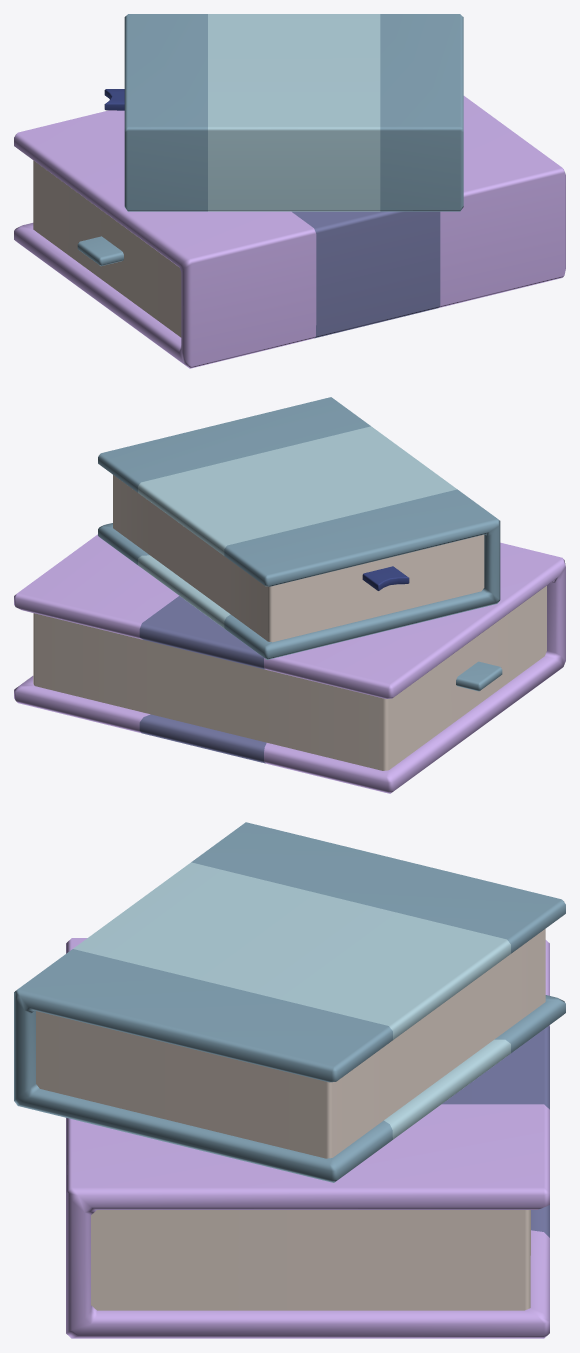
Rendered from Books_10.glb.
The picture shows the model from 3 angles, top to bottom: view 1: azimuth 30°, elevation 25°; view 2: azimuth 150°, elevation 25°; view 3: azimuth 270°, elevation 25°; orthographic projection. The views are drawn at different scales.
Visible parts, largest first — view 1: Books_10; view 2: Books_10; view 3: Books_10.
Part boxes in pixels (left/top/right/bottom): Books_10: left=14, top=14, right=565, bottom=368; Books_10: left=14, top=397, right=565, bottom=793; Books_10: left=14, top=822, right=565, bottom=1338.
Bounding box in the file's own units: 0.3231 × 0.154 × 0.2873.
Materials: 1 (1 with a texture image).
